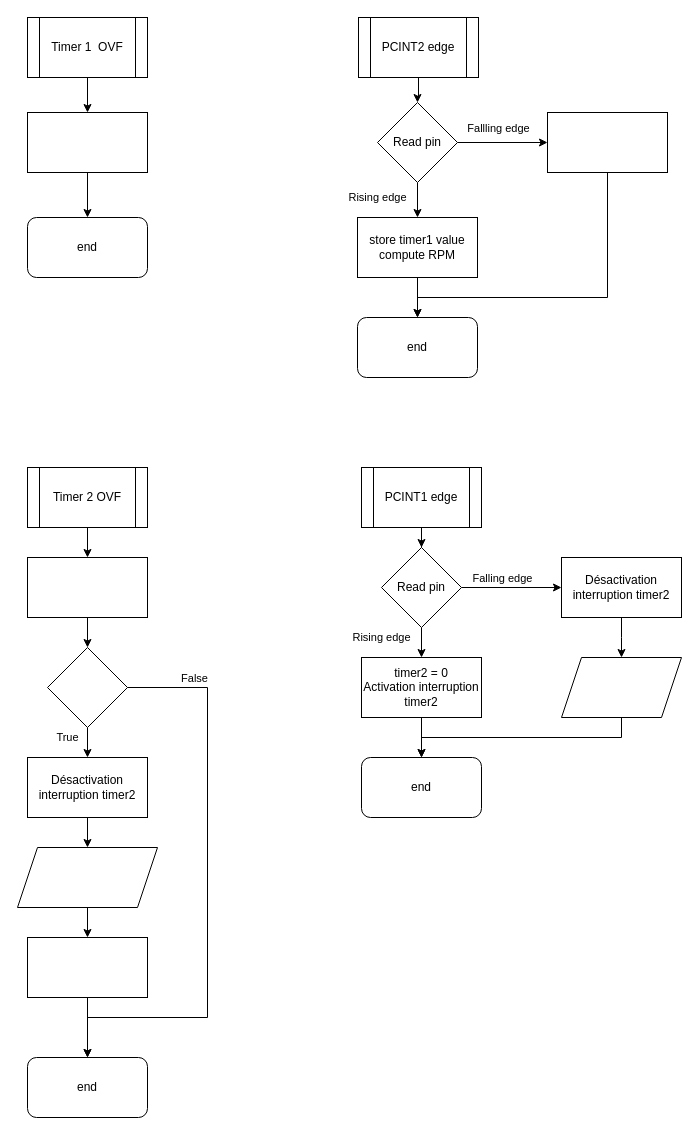
This 699x1135 diagram has some shape labels left out. The shapes that lost their labels are listed below. From the top down, each one's centre as x and y in pixels, then its label:
point 87,142: RPM = 0
point 607,142: timer1 = 0
point 87,587: overflow_counter ++
point 87,687: if(overflow_counter == 30)
point 621,687: Activation du compresseur
point 87,877: Arrêt du compresseur
point 87,967: overflow_counter = 0
